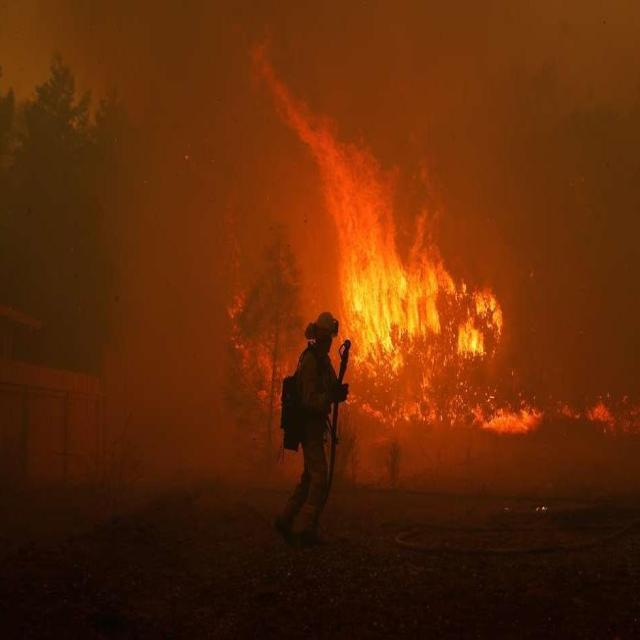Fire: (226, 41, 640, 436)
Smoke: (36, 1, 640, 496)
